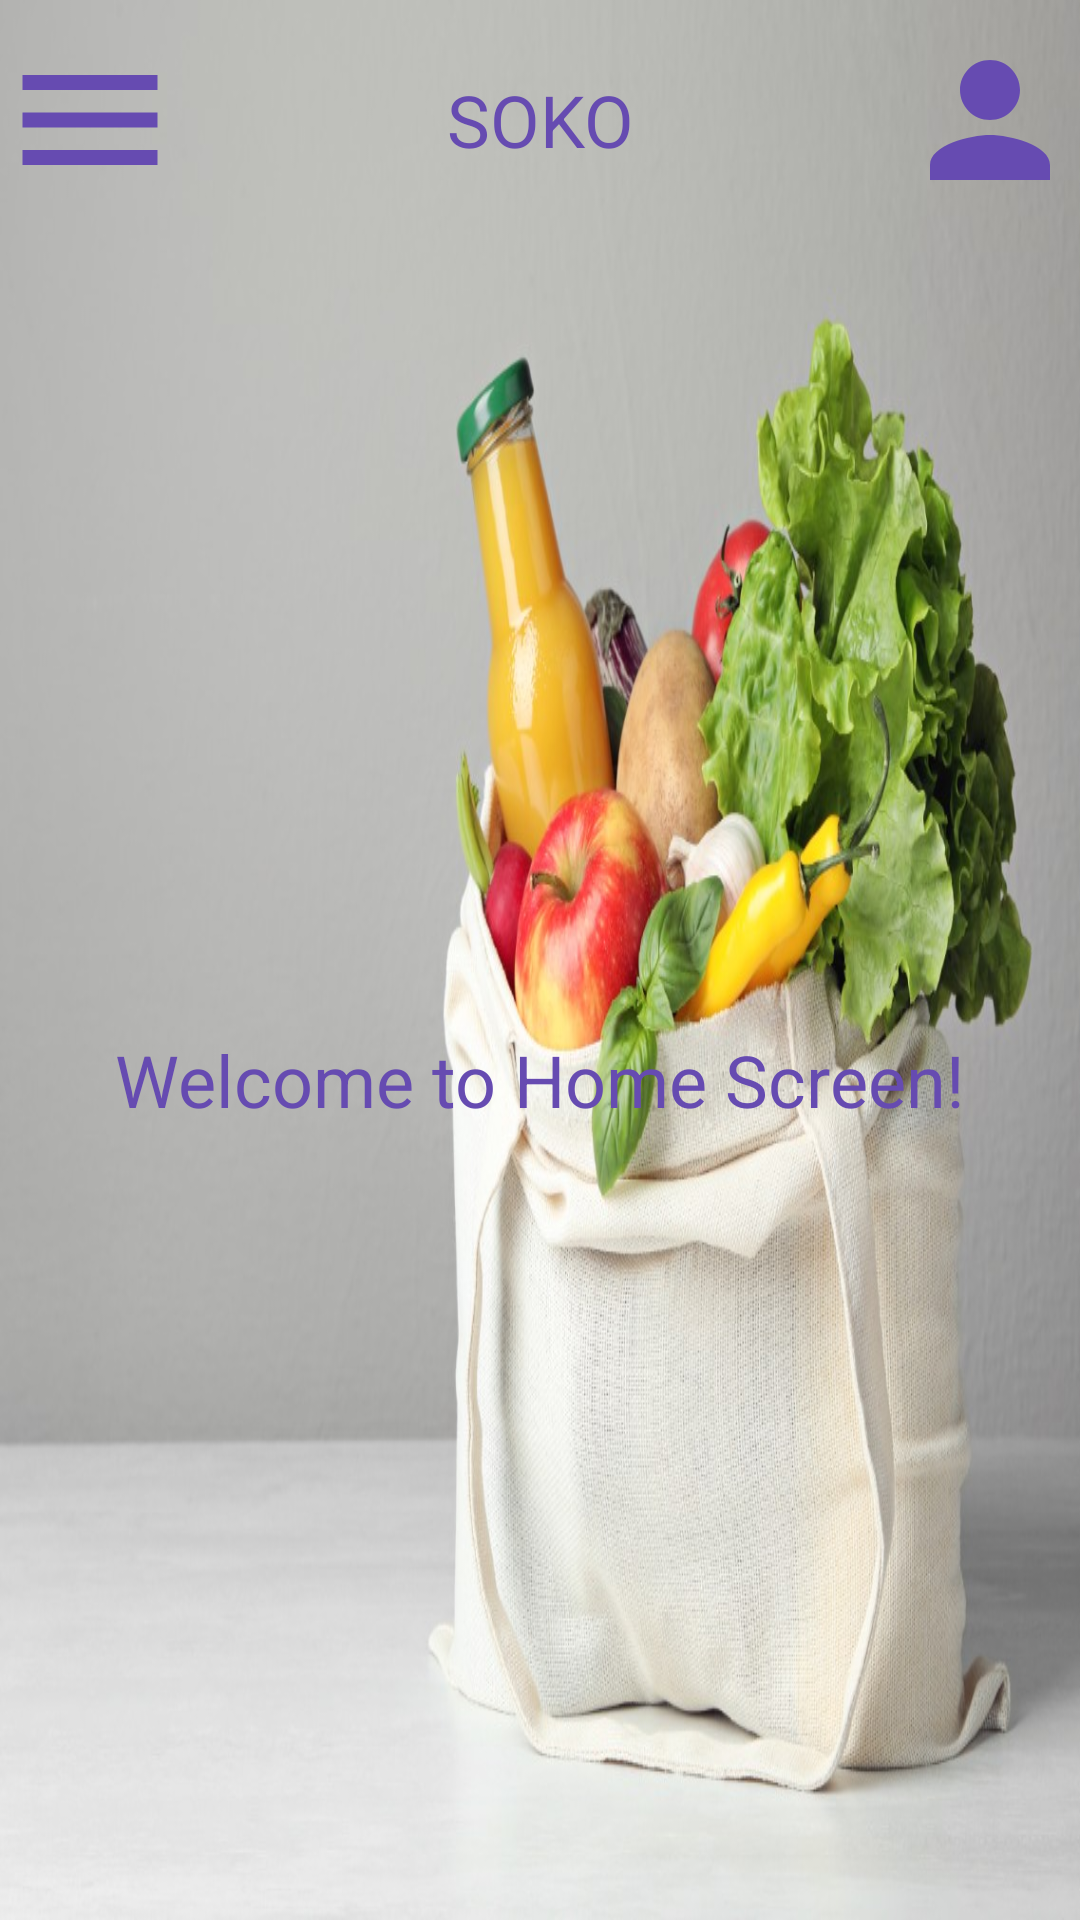

Named icons in this screenshot (1080*1920) and their centers, point (x, y):
menu: point (90, 120)
profile: point (990, 120)
